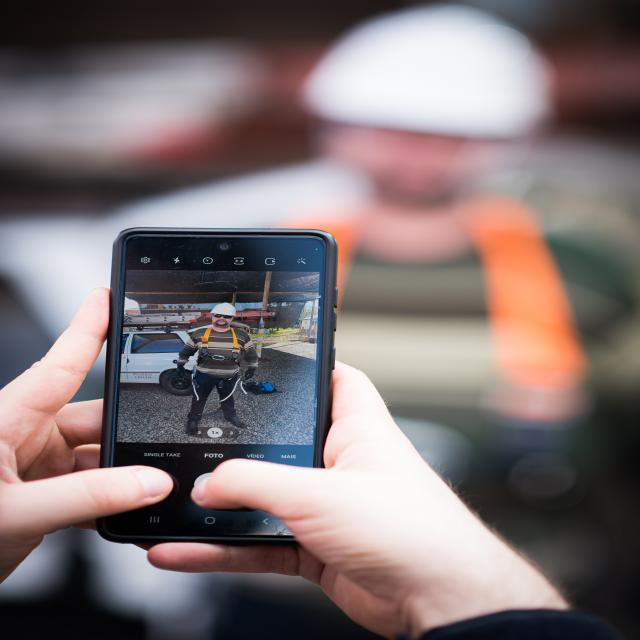botas: (222, 411, 250, 428), (182, 417, 204, 436)
capacete: (208, 302, 238, 318)
corda de vida: (193, 324, 242, 402)
luva: (240, 365, 258, 380), (172, 362, 188, 378)
